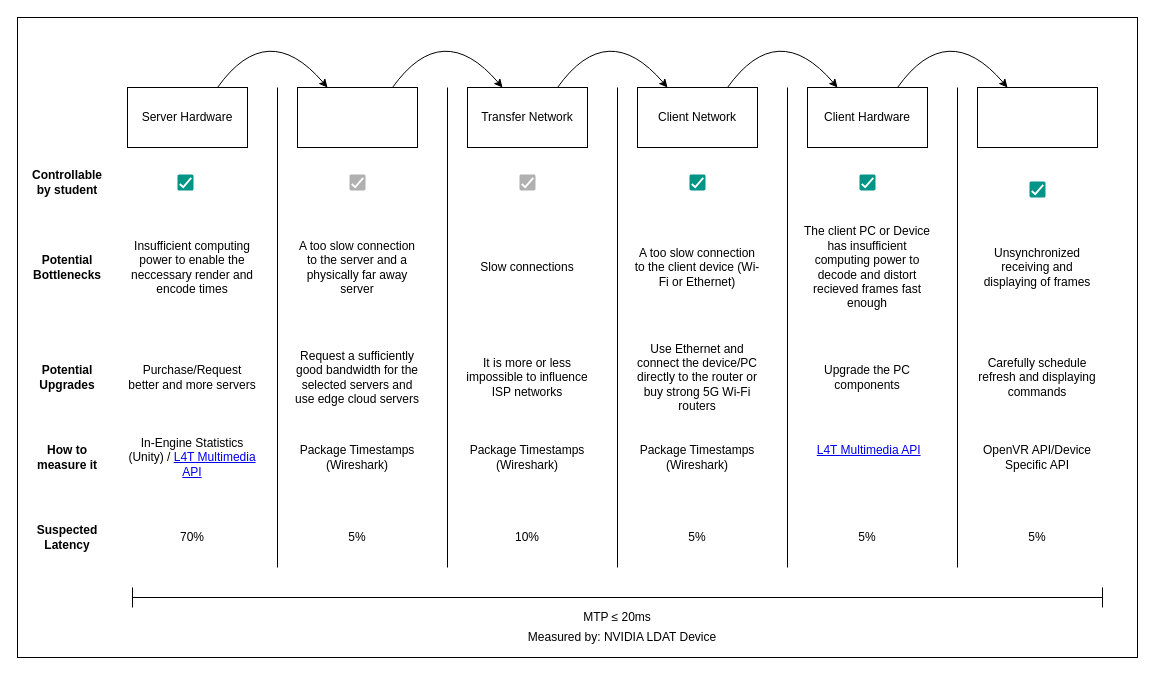
Some shapes in this 1155 by 675 pixel diagram are drawn without their labels. The shapes that lost their labels are listed below. From the top down, each one's centre as x and y in pixels, then its label:
At [357,117]: "Server/Datacenter Network".
At [1037,117]: "VR Headset".
